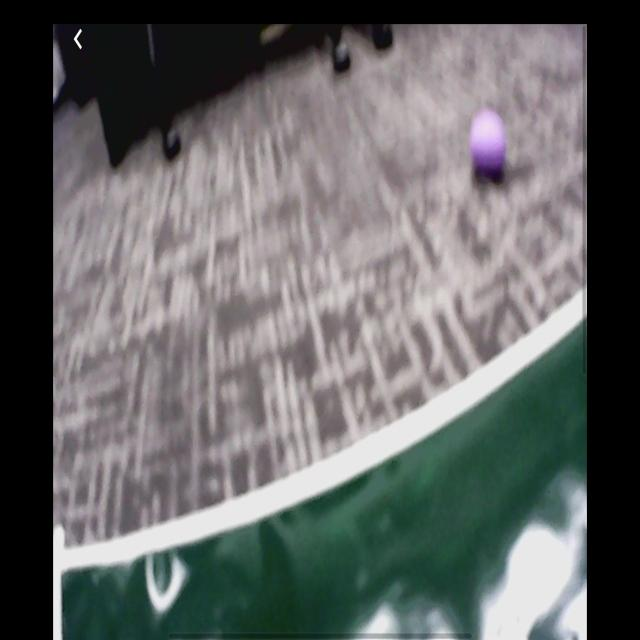ball: (469, 111, 508, 175)
